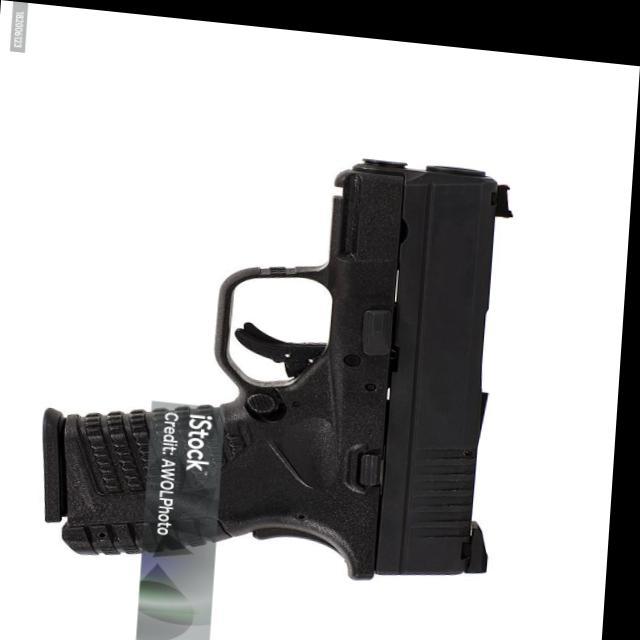handgun: (33, 123, 519, 585)
